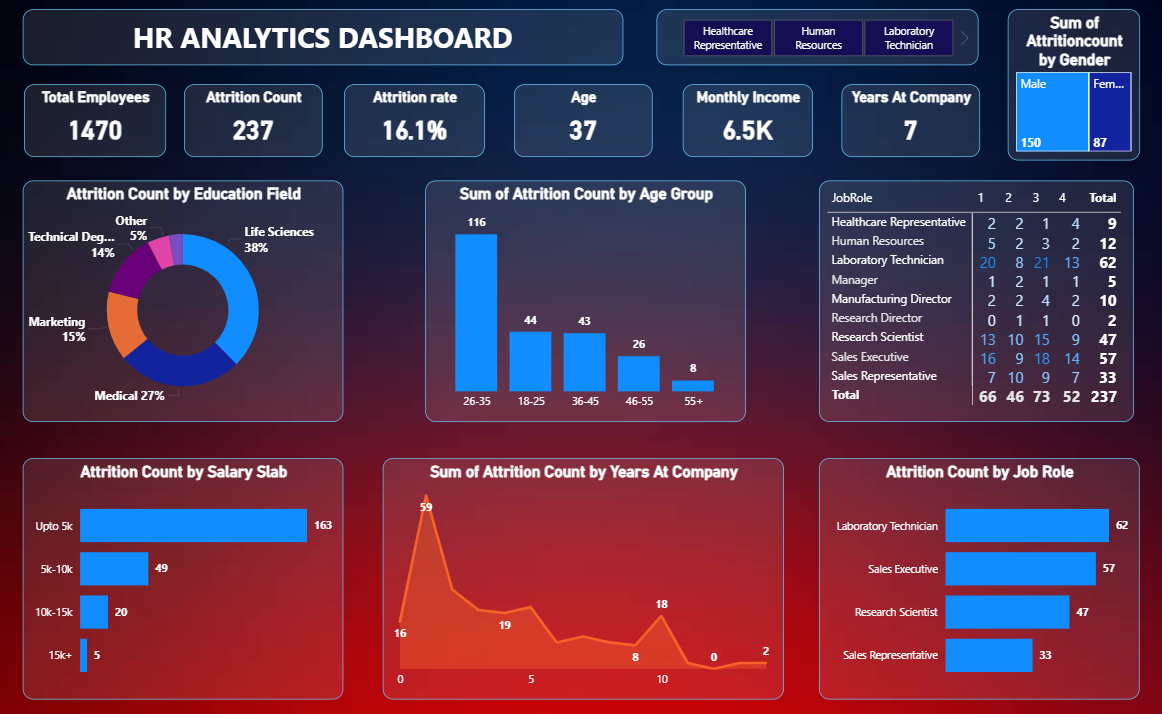

The page's visual inventory and layout, read from the dashboard file:
{"tool":"powerbi","page":{"name":"Page 1","canvas":[1345,823],"ordinal":0},"visuals":[{"type":"card","title":"Total Employees","fields":{"Values":["CountNonNull(HR_Analytics.EmpID)"]},"box":[28.1,99,162.5,83.3],"z":0},{"type":"card","title":"Attrition rate","fields":{"Values":["HR_Analytics.Attritionrate"]},"box":[394.8,99,161.1,83.3],"z":1000},{"type":"card","title":"Age","fields":{"Values":["Avg(HR_Analytics.Age)"]},"box":[589.2,99,158.3,83.3],"z":2000},{"type":"card","title":"Attrition Count","fields":{"Values":["Sum(HR_Analytics.Attritioncount)"]},"box":[211.5,99,158.3,83.3],"z":3000},{"type":"card","title":"Years At Company","fields":{"Values":["Avg(HR_Analytics.YearsAtCompany)"]},"box":[962.9,99,158.3,83.3],"z":4000},{"type":"card","title":"Monthly Income","fields":{"Values":["Avg(HR_Analytics.MonthlyIncome)"]},"box":[780.9,99,148.6,83.3],"z":5000},{"type":"donutChart","title":"Attrition Count by Education Field","fields":{"Category":["HR_Analytics.EducationField"],"Y":["Sum(HR_Analytics.Attritioncount)"]},"box":[27.5,209.2,366.7,276.4],"z":6000},{"type":"columnChart","title":"Sum of Attrition Count by Age Group","fields":{"Category":["HR_Analytics.AgeGroup"],"Y":["Sum(HR_Analytics.Attritioncount)"]},"box":[487.2,209.2,366.7,276.4],"z":7000},{"type":"pivotTable","fields":{"Rows":["HR_Analytics.JobRole"],"Columns":["HR_Analytics.JobSatisfaction"],"Values":["Sum(HR_Analytics.Attritioncount)"]},"box":[937.2,209.2,359.7,276.4],"z":8000},{"type":"barChart","title":"Attrition Count by Salary Slab","fields":{"Category":["HR_Analytics.SalarySlab"],"Y":["Sum(HR_Analytics.Attritioncount)"]},"box":[27.5,525.8,366.7,276.4],"z":9000},{"type":"barChart","title":"Attrition Count by Job Role","fields":{"Category":["HR_Analytics.JobRole"],"Y":["Sum(HR_Analytics.Attritioncount)"]},"box":[937.2,525.8,366.7,276.4],"z":10000},{"type":"areaChart","title":"Sum of Attrition Count by Years At Company","fields":{"Category":["HR_Analytics.YearsAtCompany"],"Y":["Sum(HR_Analytics.Attritioncount)"]},"box":[438.6,525.8,458.3,276.4],"z":11000},{"type":"treemap","fields":{"Values":["Sum(HR_Analytics.Attritioncount)"],"Group":["HR_Analytics.Gender"]},"box":[1152.9,12.9,151.4,172.9],"z":12000},{"type":"slicer","fields":{"Values":["HR_Analytics.JobRole"]},"box":[751.4,12.5,368.1,63.9],"z":13000},{"type":"textbox","box":[27.8,12.5,686.1,63.9],"z":14000}]}

Visuals, with their boxes in screenshot pixels (x1, y1, x2, y2), scaled from the page's 1345x823 canvas onto the 1162x714 screenshot:
"Total Employees" card: box(24, 86, 165, 158)
"Attrition rate" card: box(341, 86, 480, 158)
"Age" card: box(509, 86, 646, 158)
"Attrition Count" card: box(183, 86, 319, 158)
"Years At Company" card: box(832, 86, 969, 158)
"Monthly Income" card: box(675, 86, 803, 158)
"Attrition Count by Education Field" donutChart: box(24, 181, 341, 421)
"Sum of Attrition Count by Age Group" columnChart: box(421, 181, 738, 421)
pivotTable - HR_Analytics.JobRole x HR_Analytics.JobSatisfaction: box(810, 181, 1120, 421)
"Attrition Count by Salary Slab" barChart: box(24, 456, 341, 696)
"Attrition Count by Job Role" barChart: box(810, 456, 1126, 696)
"Sum of Attrition Count by Years At Company" areaChart: box(379, 456, 775, 696)
treemap - Sum(HR_Analytics.Attritioncount) x HR_Analytics.Gender: box(996, 11, 1127, 161)
slicer - HR_Analytics.JobRole: box(649, 11, 967, 66)
textbox: box(24, 11, 617, 66)
